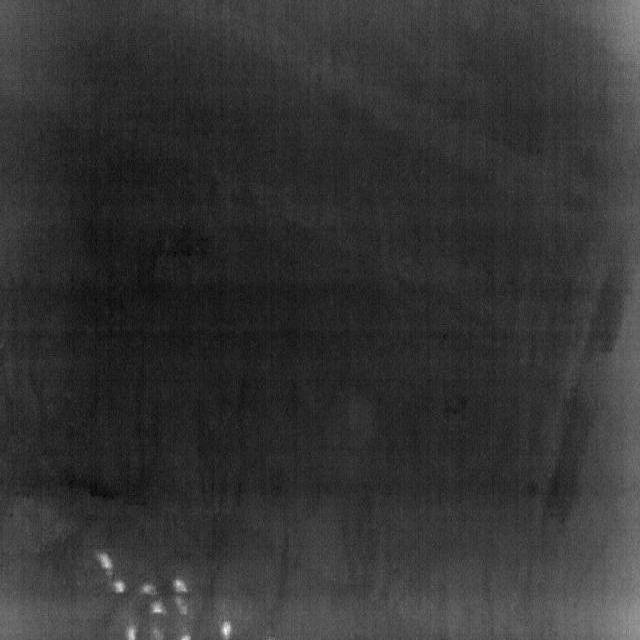deer: (96, 552, 114, 580), (175, 596, 189, 615), (151, 598, 167, 614), (172, 579, 189, 593), (220, 621, 232, 640), (140, 584, 158, 596), (112, 581, 126, 593), (125, 626, 136, 640), (180, 634, 192, 640)
